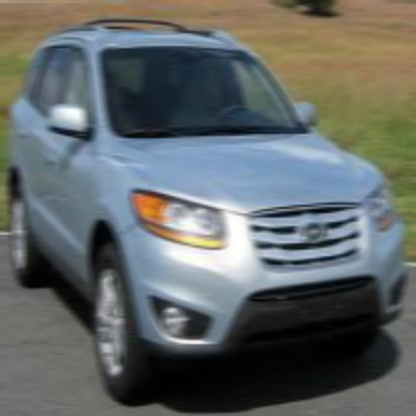Vehicle: (9, 11, 406, 392)
